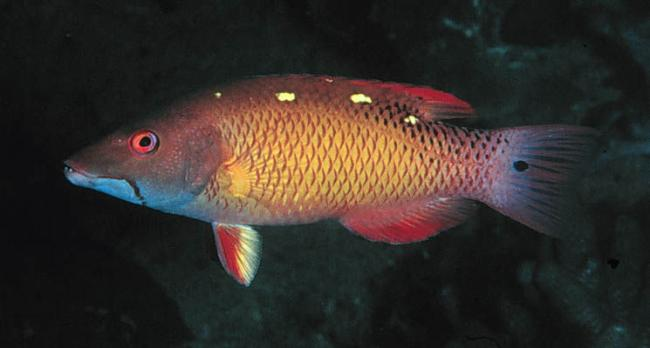fish: (63, 74, 600, 289)
